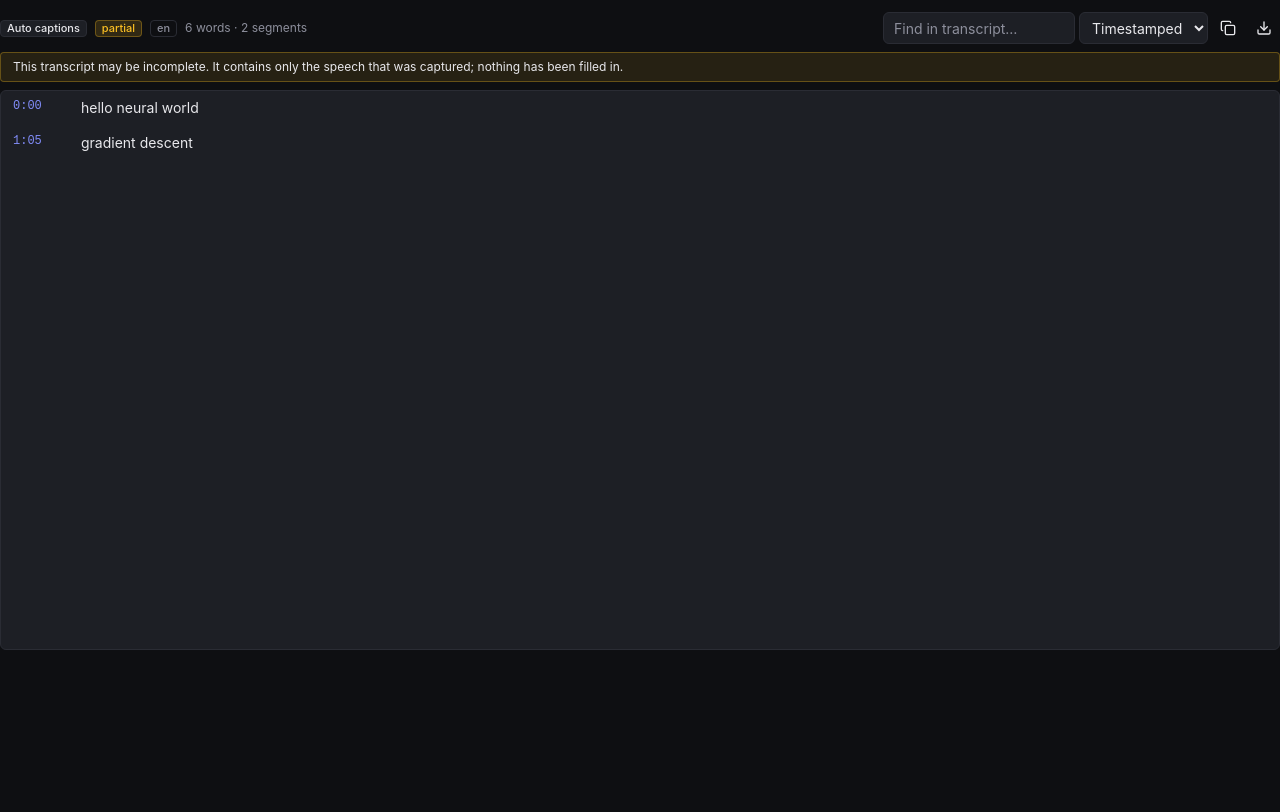
Test: transcript rendering › shows timestamped segments with links, incompleteness warning, and search hits
The image size is (1280, 812).
expect the text "Auto captions" is shown: met, box x1=0 y1=20 x2=87 y2=36
expect the text "may be incomplete" is shown: met, box x1=13 y1=59 x2=623 y2=74
Type "neural" into the field named "Search transcript" at (979, 28), box x1=883 y1=12 x2=1075 y2=44
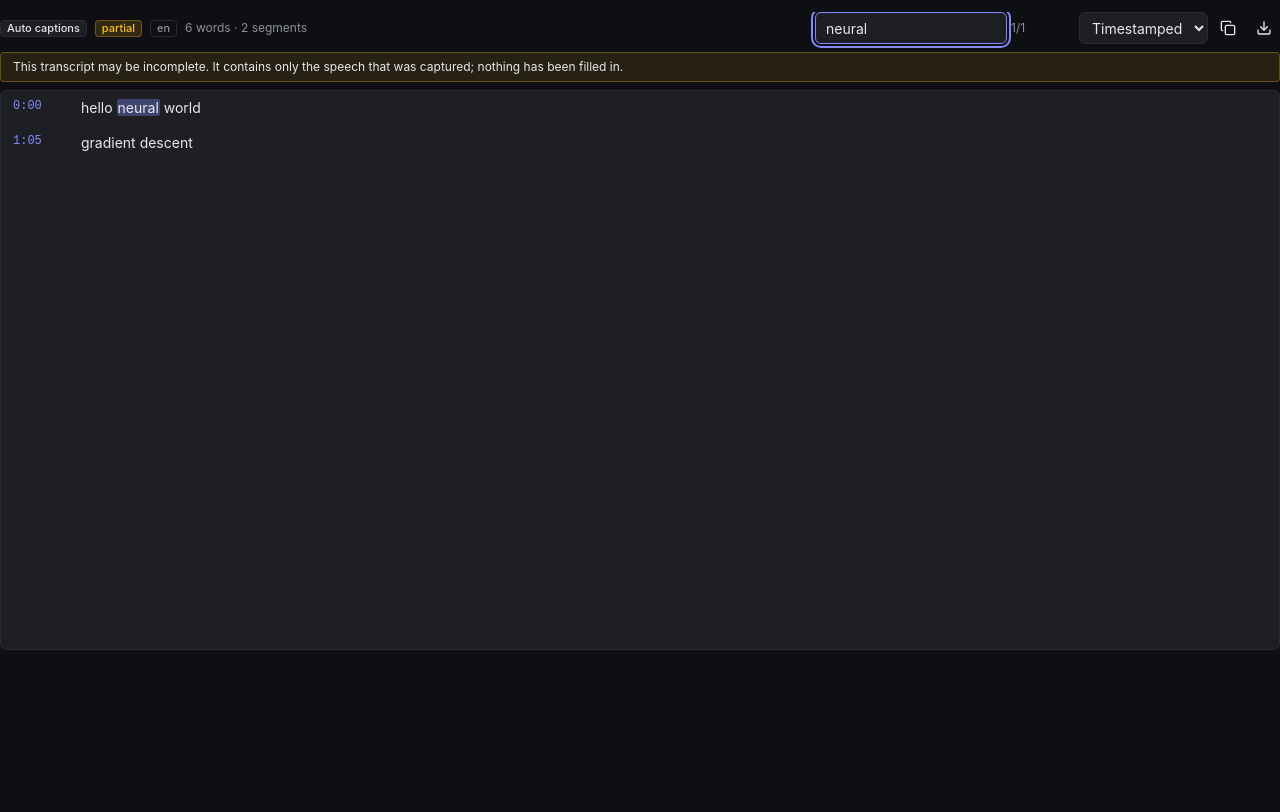
expect the text "neural" is shown: met, box x1=117 y1=99 x2=160 y2=116
expect the text "1/1" is shown: met, box x1=1011 y1=20 x2=1025 y2=35
Select "Plain text" in the dropdown named "View mode" at (1144, 28), box x1=1079 y1=12 x2=1208 y2=44
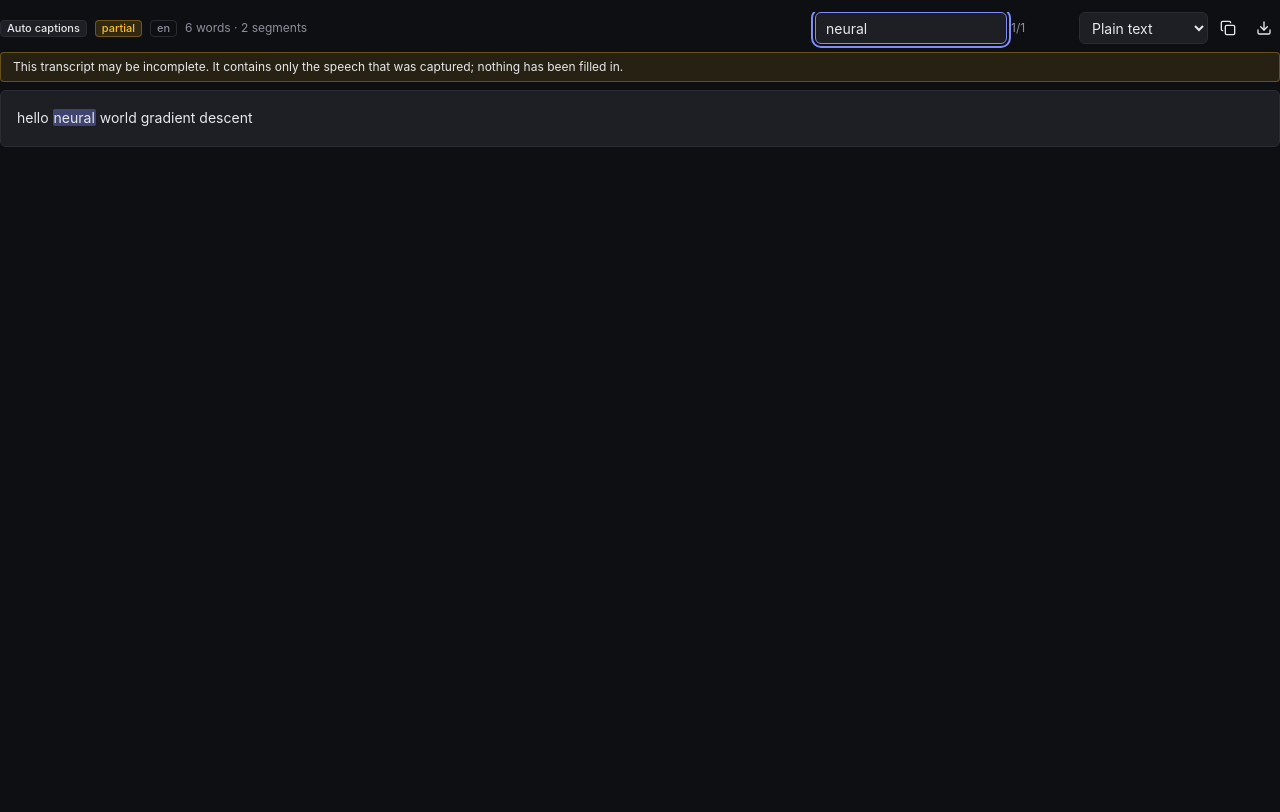
expect the text "world gradient descent" is shown: met, box x1=96 y1=109 x2=252 y2=126
